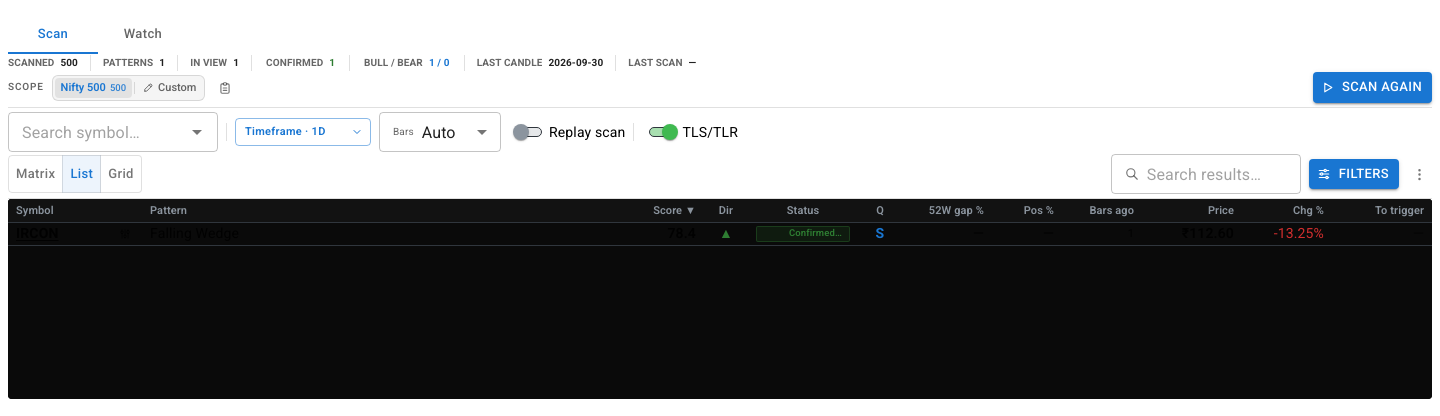
PatternsPage › view toggle switches between the dense list and the card grid
This screenshot has width=1440, height=416.
expect the table with test id "patterns-list" is shown: met, box [8,199,1432,246]
Step 1. Click the button "Grid" → (121,174), box [100,155,142,193]
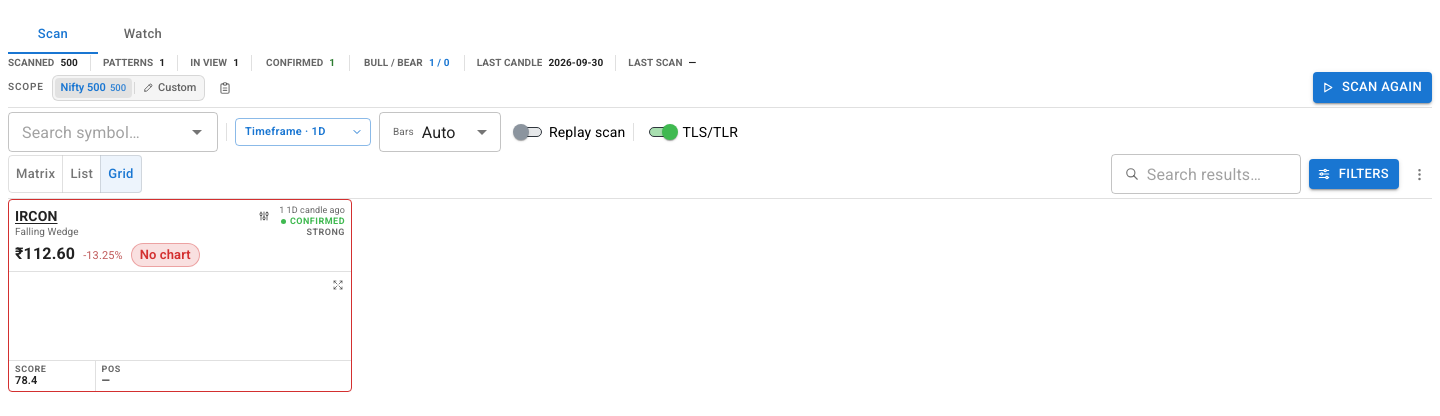
expect the table with test id "patterns-list" is gone: met
expect the button with test id "patterns-card-IRCON-falling_wedge" is shown: met, box [8,199,352,392]
Step 2. Click the button "List" → (82,174), box [62,155,101,193]
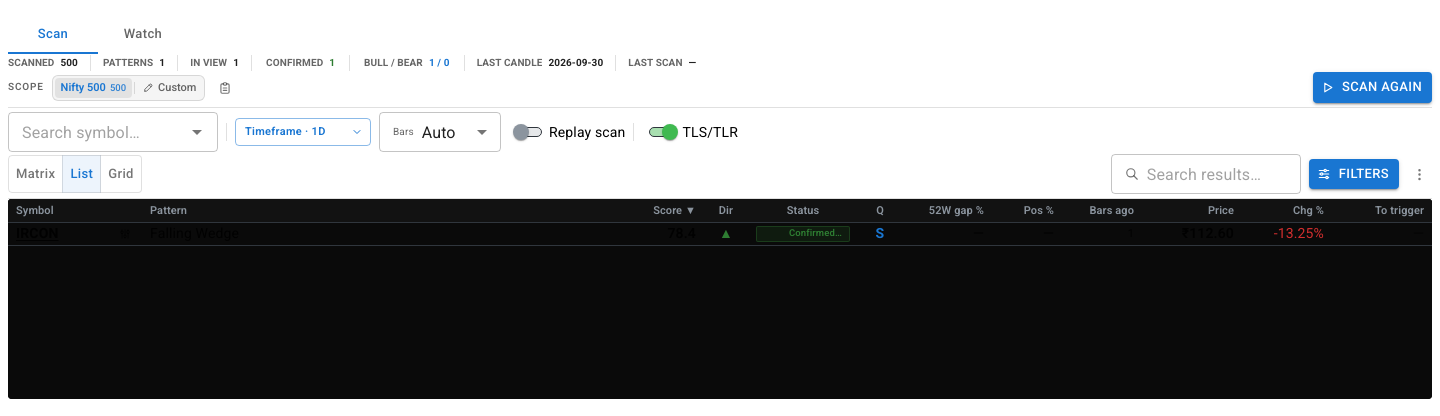
expect the table with test id "patterns-list" is shown: met, box [8,199,1432,246]
expect the element with test id "patterns-grid" is gone: met
